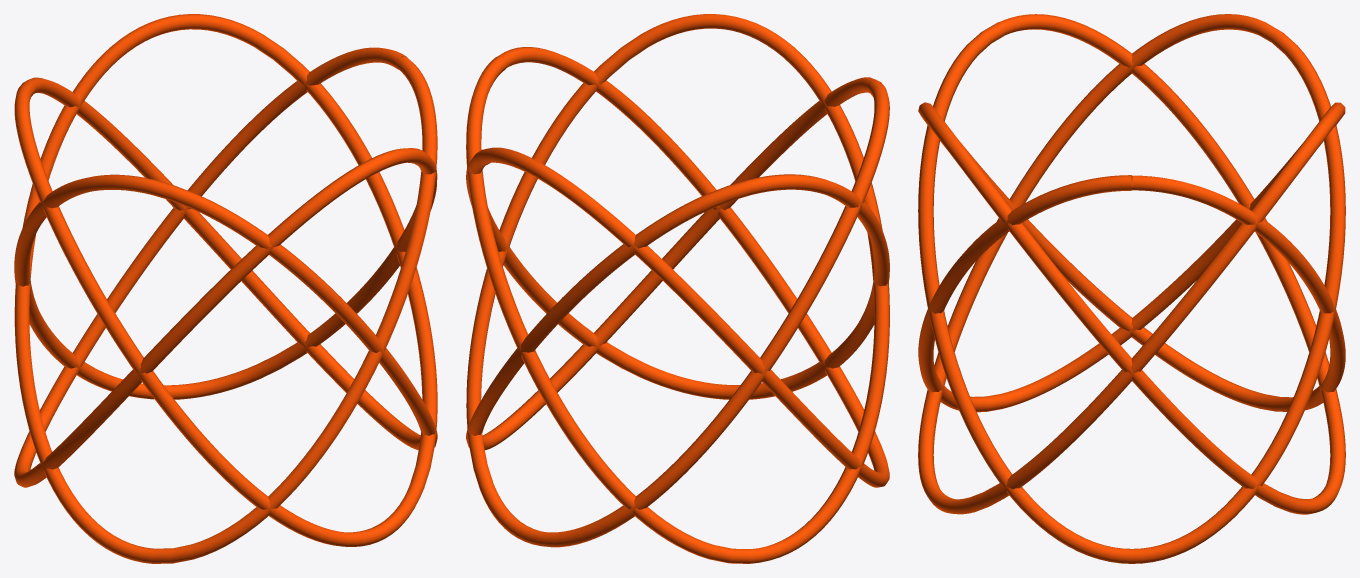
Rendered from lissajous.dae.
3 renders of one model, left to right at view 1: azimuth 30°, elevation 25°; view 2: azimuth 150°, elevation 25°; view 3: azimuth 270°, elevation 25°, orthographic.
Visible parts, largest first — view 1: c; view 2: c; view 3: c.
Part boxes in pixels (left/top/right/bottom): c: left=14, top=14, right=437, bottom=563; c: left=466, top=14, right=889, bottom=563; c: left=918, top=14, right=1345, bottom=563.
Size of the model in its own units: 2.08 by 2.08 by 2.08.
